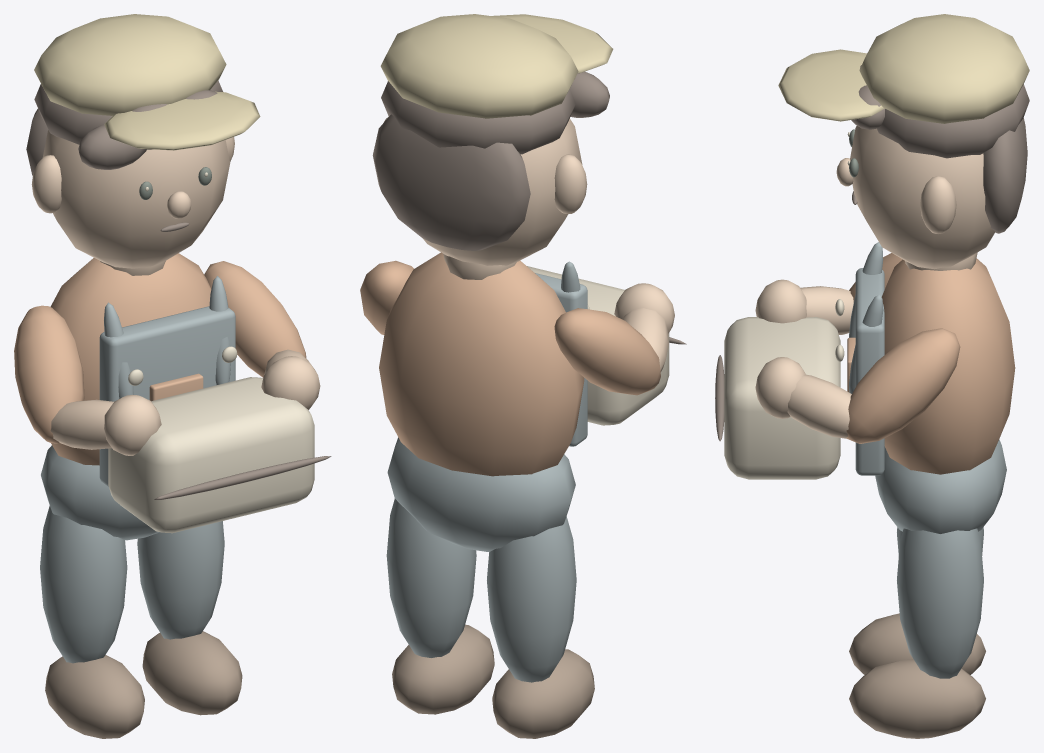
File: jeff-carry.glb
3 views of the same model, side by side, from view 1: azimuth 30°, elevation 25°; view 2: azimuth 150°, elevation 25°; view 3: azimuth 270°, elevation 25° (orthographic). The views are drawn at different scales.
Visible parts, largest first — view 1: Supply parcel.004, Head.013, Cap crown.004, Trouser leg.026, Padded shirt.013, Overall bib.007, Trouser leg.027, Shirt sleeve.026, Rounded boot.027, Rounded boot.026, Cap bill.004, Shirt sleeve.027 (+13 smaller); view 2: Padded shirt.013, Cap crown.004, Hair back.013, Soft trouser seat.013, Trouser leg.026, Trouser leg.027, Shirt sleeve.026, Hair crown.013, Rounded boot.026, Rounded boot.027, Head.013, Supply parcel.004 (+8 smaller); view 3: Padded shirt.013, Cap crown.004, Supply parcel.004, Head.013, Trouser leg.027, Shirt sleeve.027, Rounded boot.027, Soft trouser seat.013, Cap bill.004, Hair crown.013, Hair back.013, Overall bib.007 (+10 smaller).
Part boxes in pixels (box(x1,y1,x2,y2)): Supply parcel.004: box(108, 377, 314, 533); Head.013: box(42, 130, 230, 268); Cap crown.004: box(34, 14, 226, 115); Trouser leg.026: box(40, 505, 127, 663); Padded shirt.013: box(50, 253, 211, 465); Overall bib.007: box(99, 306, 235, 486); Trouser leg.027: box(137, 521, 224, 639); Shirt sleeve.026: box(14, 305, 84, 443); Rounded boot.027: box(142, 631, 242, 715); Rounded boot.026: box(45, 655, 144, 738); Cap bill.004: box(104, 91, 260, 150); Shirt sleeve.027: box(204, 261, 306, 377); Padded shirt.013: box(379, 252, 584, 476); Cap crown.004: box(380, 14, 578, 118); Hair back.013: box(372, 114, 530, 250); Soft trouser seat.013: box(387, 437, 575, 551); Trouser leg.026: box(487, 516, 576, 682); Trouser leg.027: box(386, 498, 476, 657); Shirt sleeve.026: box(554, 308, 660, 395); Hair crown.013: box(381, 81, 575, 154); Rounded boot.026: box(492, 649, 594, 738); Rounded boot.027: box(392, 624, 494, 714); Head.013: box(423, 118, 582, 265); Supply parcel.004: box(527, 266, 669, 425); Padded shirt.013: box(881, 258, 1015, 474); Cap crown.004: box(859, 14, 1029, 123); Supply parcel.004: box(724, 317, 840, 479); Head.013: box(850, 126, 995, 269); Trouser leg.027: box(897, 528, 983, 678); Shirt sleeve.027: box(846, 328, 960, 443); Rounded boot.027: box(849, 659, 985, 738); Soft trouser seat.013: box(875, 439, 1006, 533); Cap bill.004: box(778, 49, 884, 121); Hair crown.013: box(877, 84, 1029, 158); Hair back.013: box(983, 118, 1027, 233); Overall bib.007: box(855, 268, 884, 475).
Size of the model in its own units: 0.7658 by 1.84 by 0.7721.
